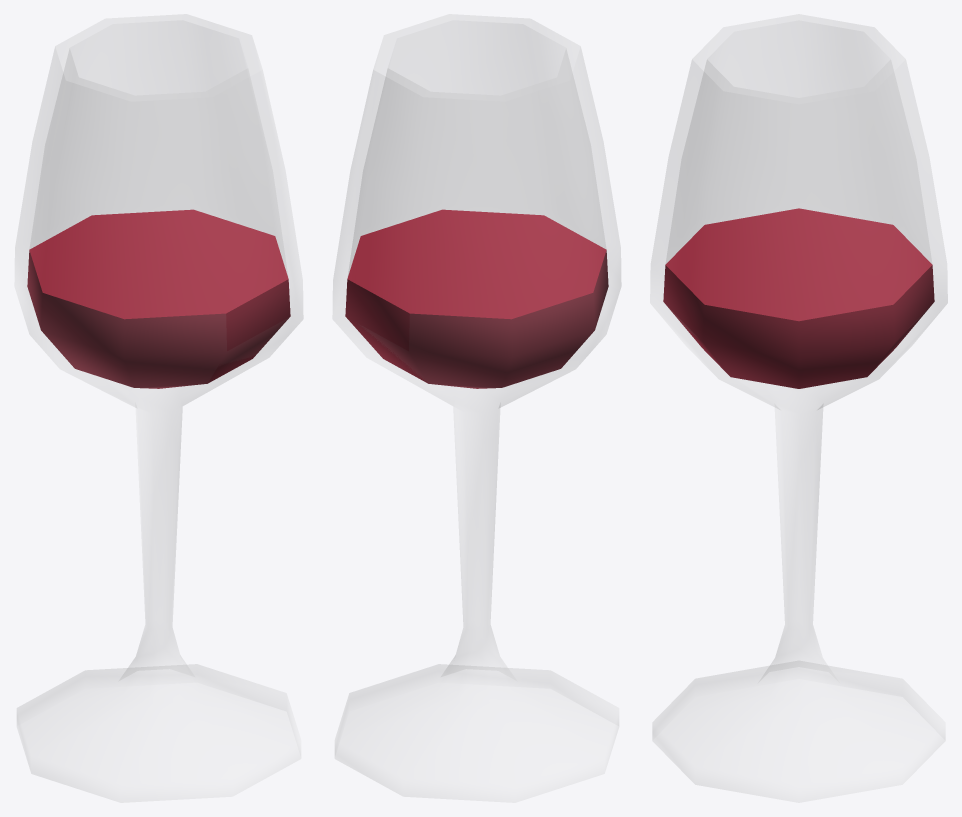
3 views of the same model, side by side, from view 1: azimuth 30°, elevation 25°; view 2: azimuth 150°, elevation 25°; view 3: azimuth 270°, elevation 25° (orthographic).
Parts seen in each view (by area): view 1: transp.001; view 2: transp.001; view 3: transp.001.
Part boxes in pixels (box(x1,y1,x2,y2)): transp.001: box(15, 14, 302, 802); transp.001: box(333, 14, 620, 802); transp.001: box(650, 14, 947, 802).
Bounding box in the file's own units: 0.198 × 0.5 × 0.198.
